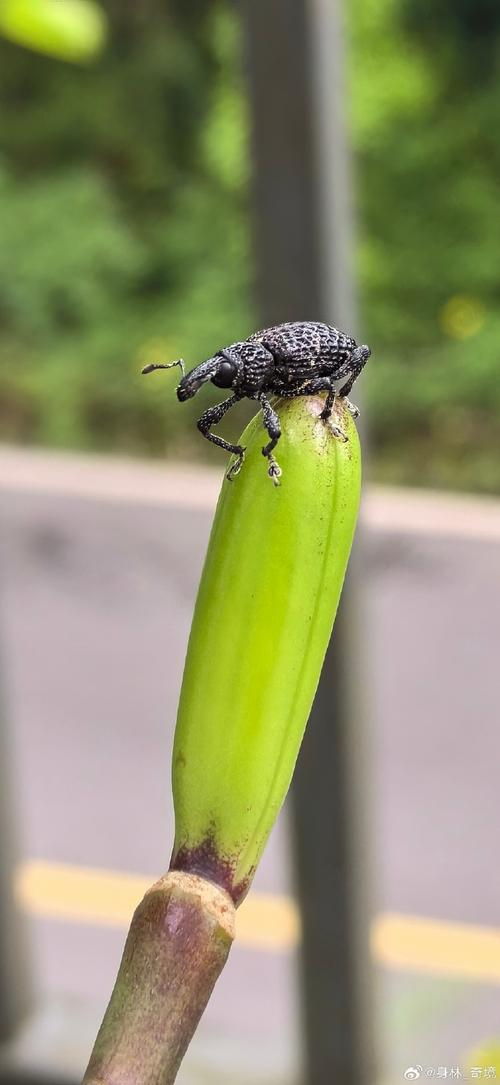Curculionidae: (141, 320, 370, 484)
